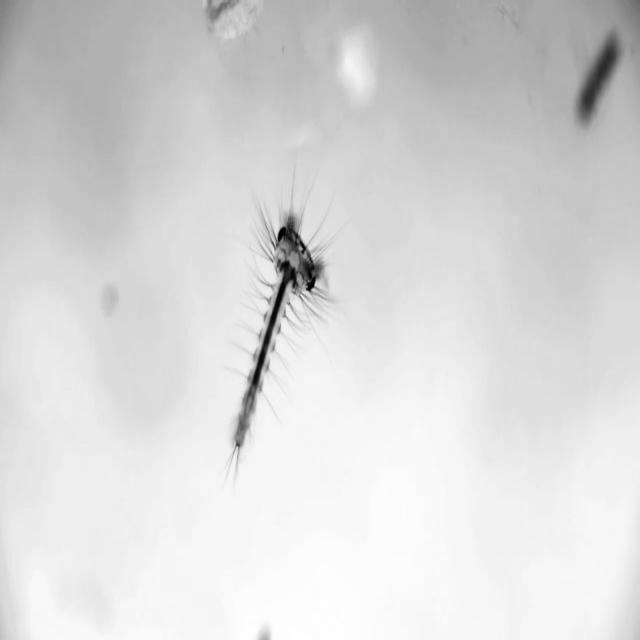larvas: (230, 223, 323, 460)
